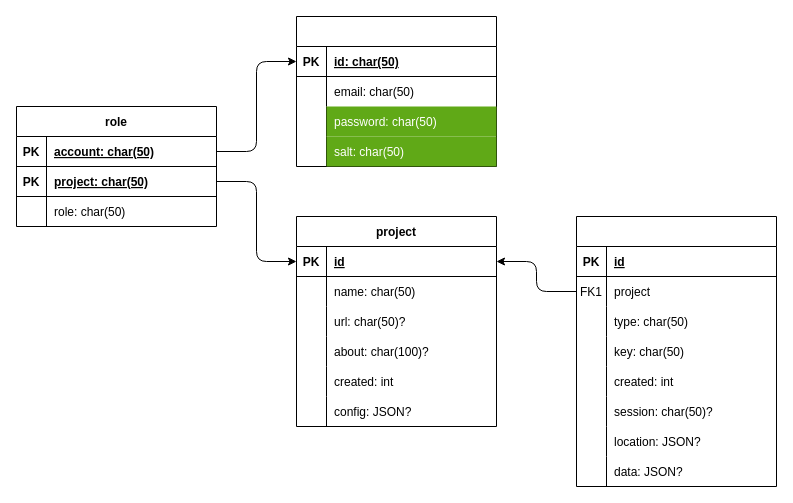
This 793x503 diagram has some shape labels left out. Each missing label, with the box of its shape:
account: (296, 16, 496, 166)
event: (576, 216, 776, 486)
